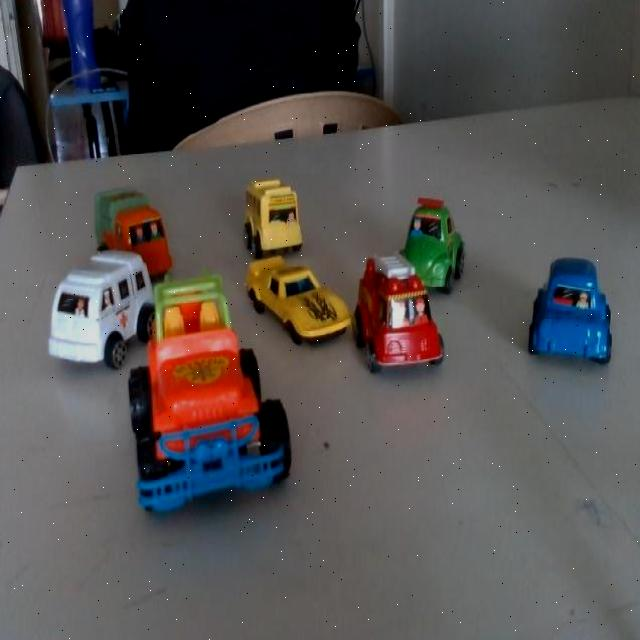car: (137, 335, 290, 524), (524, 252, 620, 377), (359, 253, 445, 382), (245, 253, 348, 354), (45, 259, 143, 363), (96, 184, 173, 276), (401, 201, 469, 292), (250, 171, 309, 255)
